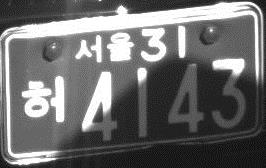1: (134, 64, 152, 140), (174, 22, 190, 60)
3: (210, 56, 247, 130), (139, 27, 167, 63)
4: (80, 69, 118, 143), (166, 62, 205, 134)
서울_O: (73, 30, 136, 64)
허: (21, 74, 67, 124)
